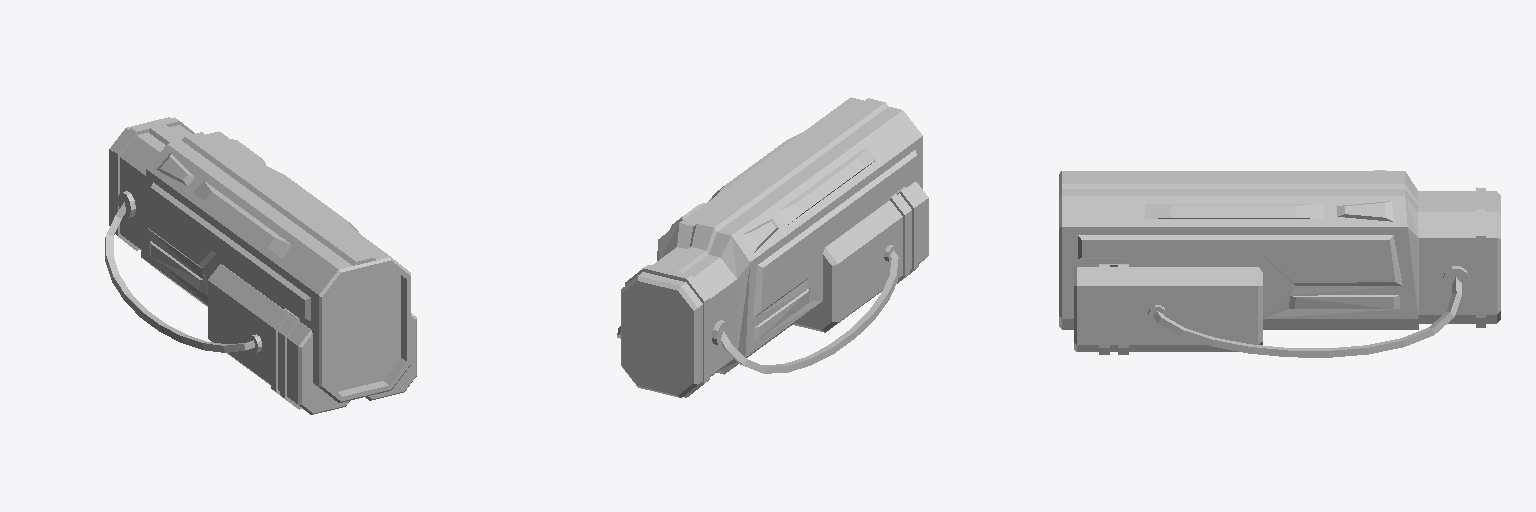
Rendered from grav gun.obj.
3 renders of one model, left to right at view 1: azimuth 30°, elevation 25°; view 2: azimuth 150°, elevation 25°; view 3: azimuth 270°, elevation 25°, orthographic.
Visible parts, largest first — view 1: BezierCurve; view 2: BezierCurve; view 3: BezierCurve.
Boxes of the visible parts, x1,y1,x2,y2 form: BezierCurve: [105, 117, 416, 414]; BezierCurve: [617, 97, 928, 397]; BezierCurve: [1059, 170, 1500, 357].
Size of the model in its own units: 288 by 227 by 597.